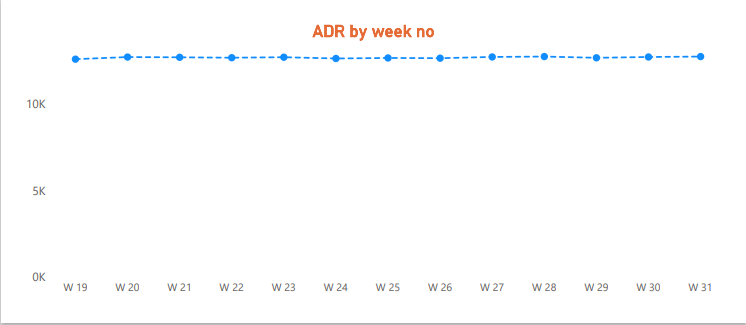

Layout of this report page (visuals, bound fields, positions):
{"tool":"powerbi","page":{"name":"Revenue","canvas":[700,400],"ordinal":1},"visuals":[{"type":"lineChart","fields":{"Category":["dim_date.week no"],"Y":["key_measures.Revenue"],"Series":["dim_hotals.category"]},"box":[35.3,58.4,640.4,256.7],"z":0}]}

Visuals, with their boxes on the page's 700x400 design canvas (x1, y1, x2, y2). These are canvas units, not pixel positions in the 746x325 screenshot, which may show the page scaled, cropped or inside an application window:
lineChart - dim_date.week no x key_measures.Revenue: BBox(35, 58, 676, 315)
